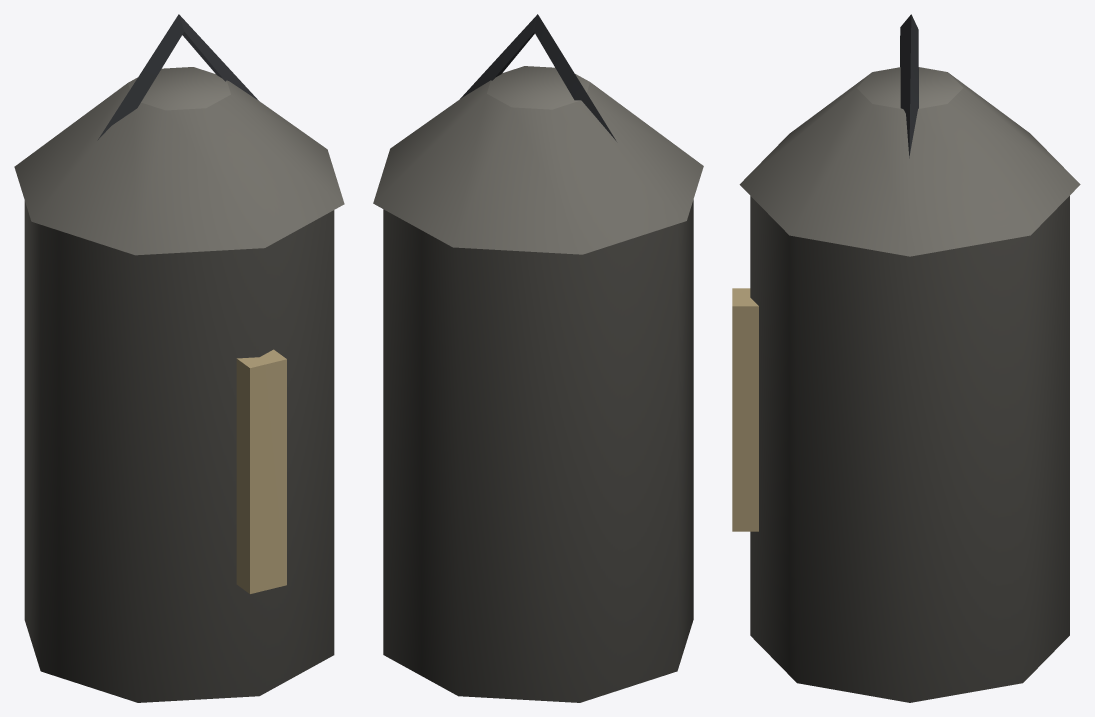
The model's file is ph_tool_lantern_blind.glb.
3 views of the same model, side by side, from view 1: azimuth 30°, elevation 25°; view 2: azimuth 150°, elevation 25°; view 3: azimuth 270°, elevation 25° (orthographic).
Parts seen in each view (by area): view 1: ph_tool_lantern_blind; view 2: ph_tool_lantern_blind; view 3: ph_tool_lantern_blind.
Part boxes in pixels (x1,y1,x2,y2): ph_tool_lantern_blind: (14,14,344,702); ph_tool_lantern_blind: (373,14,703,702); ph_tool_lantern_blind: (732,14,1080,702).
Size of the model in its own units: 0.096 by 0.193 by 0.098.
